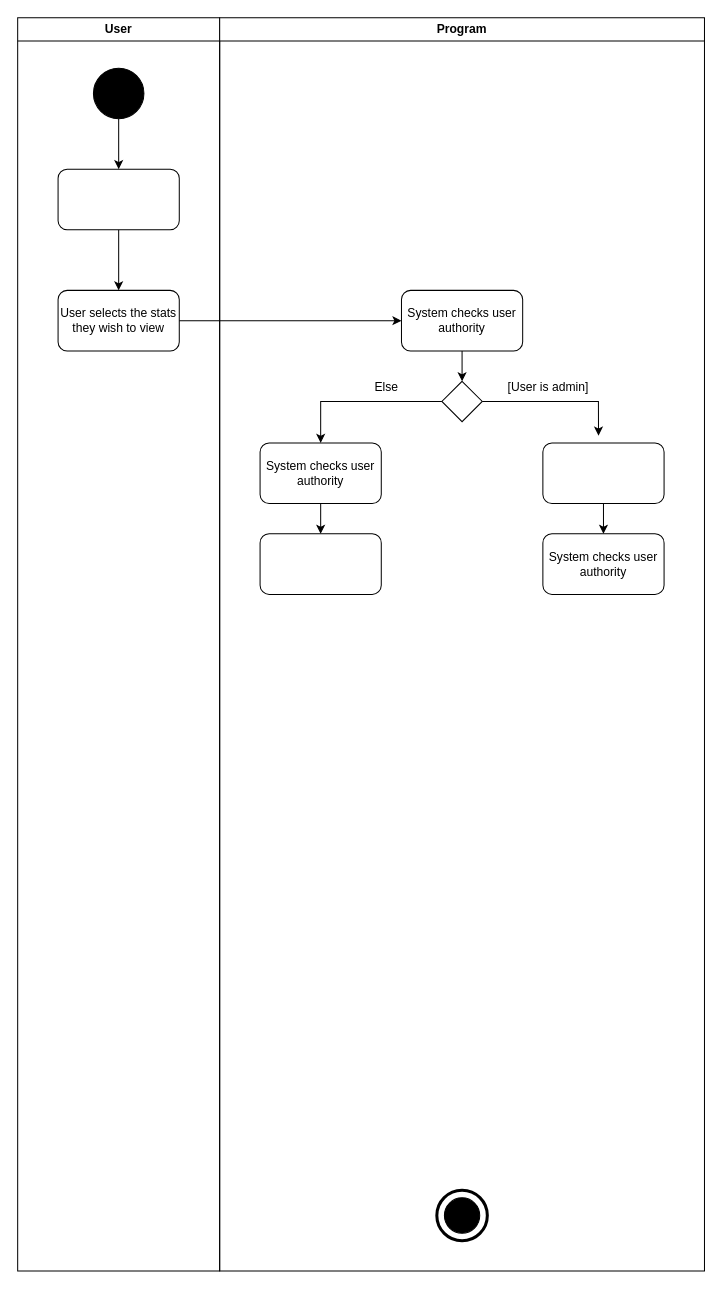
Some shapes in this 722 by 1289 pixel diagram are drawn without their labels. Each missing label, with the centre of its shape:
"System fetches limited statistics" belongs at (320,563).
"System fetches unrestricted" belongs at (603,472).
"User navigates to Statistics tab" belongs at (118,199).
